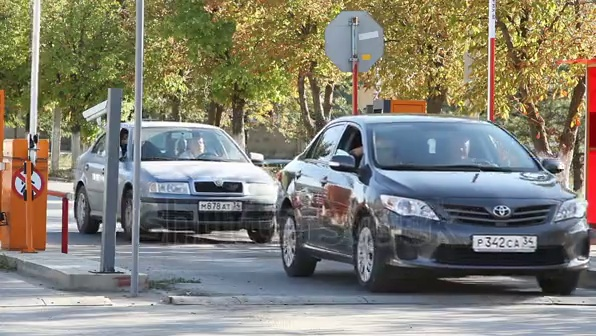licenseplate: (472, 229, 540, 258), (197, 199, 245, 218)
